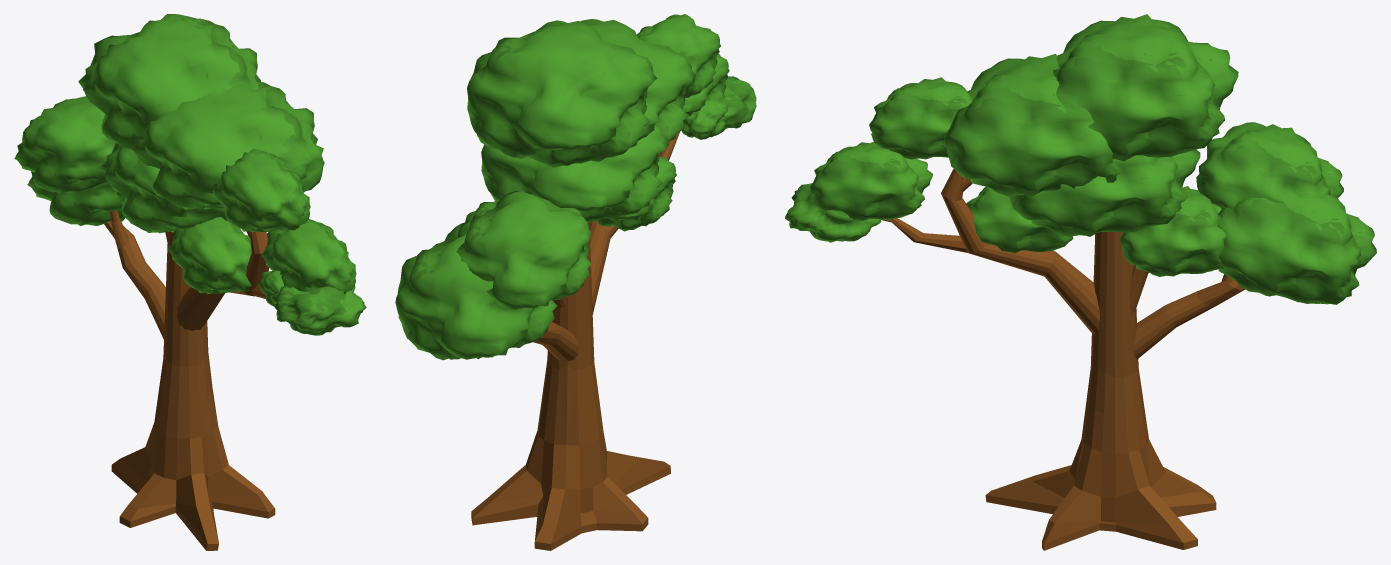
File: BIGTREE.fbx
3 renders of one model, left to right at view 1: azimuth 30°, elevation 25°; view 2: azimuth 150°, elevation 25°; view 3: azimuth 270°, elevation 25°, orthographic. The views are drawn at different scales.
Visible parts, largest first — view 1: 1, Cylinder; view 2: 1, Cylinder; view 3: 1, Cylinder.
Part boxes in pixels (x1,y1,x2,y2): 1: (14,14,366,335); Cylinder: (104,210,275,550); 1: (395,14,756,360); Cylinder: (471,131,680,550); 1: (785,14,1376,304); Cylinder: (880,169,1245,550).
Size of the model in its own units: 152 by 388 by 422.
2 materials, 2 textured.
